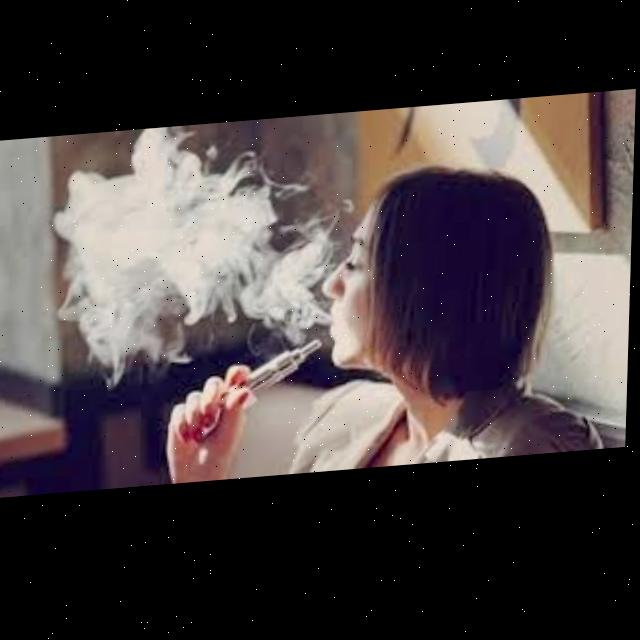vape: (248, 345, 325, 401)
